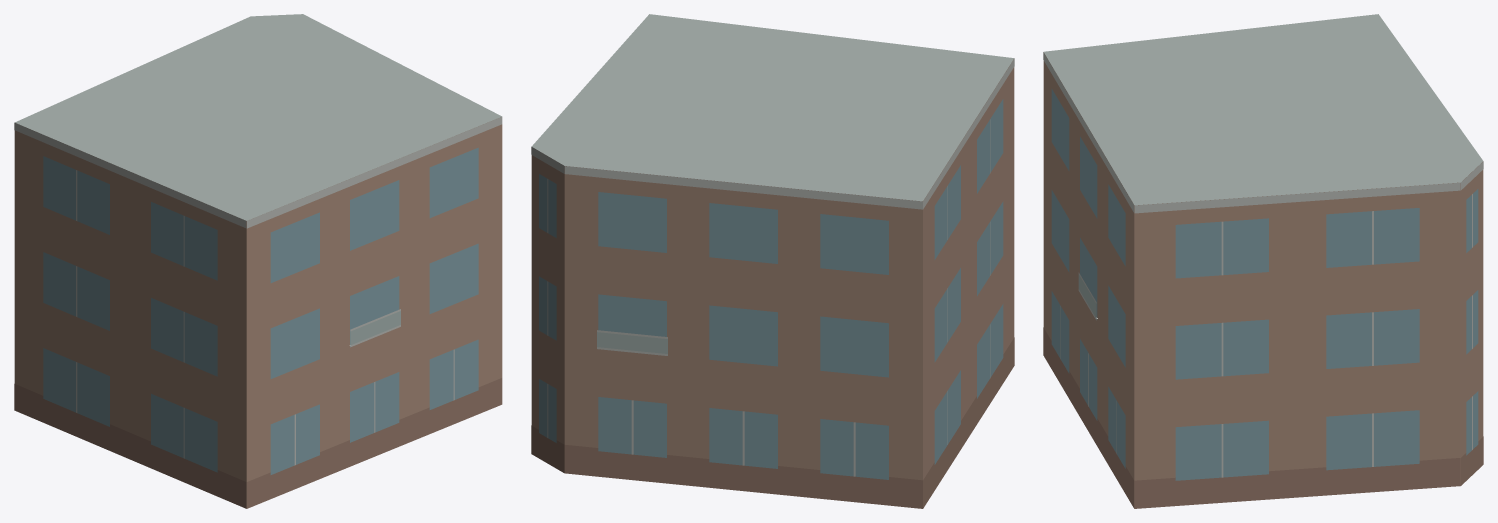
Rendered from survey-upis-33017157.glb.
The picture shows the model from 3 angles, left to right: view 1: azimuth 30°, elevation 25°; view 2: azimuth 150°, elevation 25°; view 3: azimuth 270°, elevation 25°; orthographic projection. The views are drawn at different scales.
Parts seen in each view (by area): view 1: survey-upis-33017157.tmp; view 2: survey-upis-33017157.tmp; view 3: survey-upis-33017157.tmp.
Part boxes in pixels (x1,y1,x2,y2): survey-upis-33017157.tmp: (14, 14, 502, 508); survey-upis-33017157.tmp: (531, 14, 1014, 508); survey-upis-33017157.tmp: (1043, 14, 1483, 508).
Bounding box in the file's own units: 12.38 × 9.15 × 12.03.
